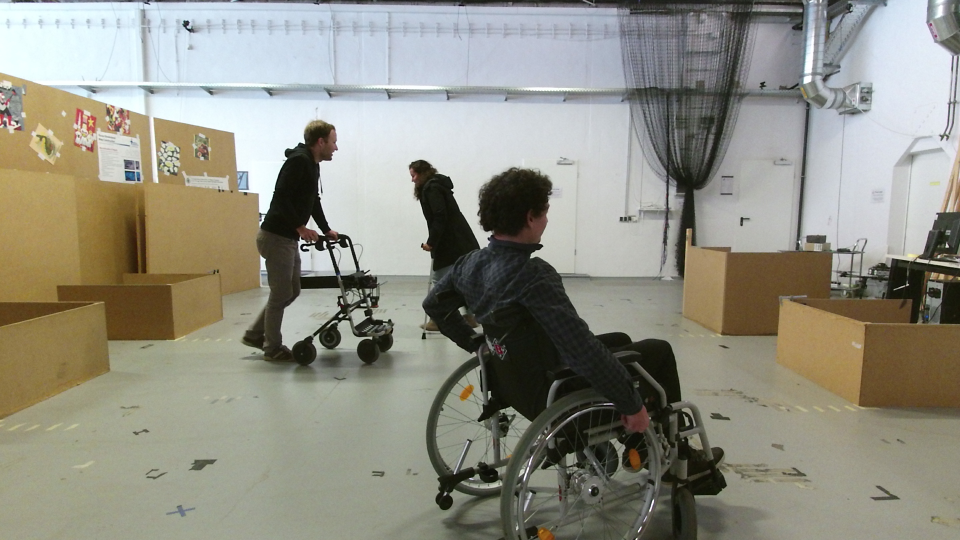wheelchair: (419, 161, 736, 540)
